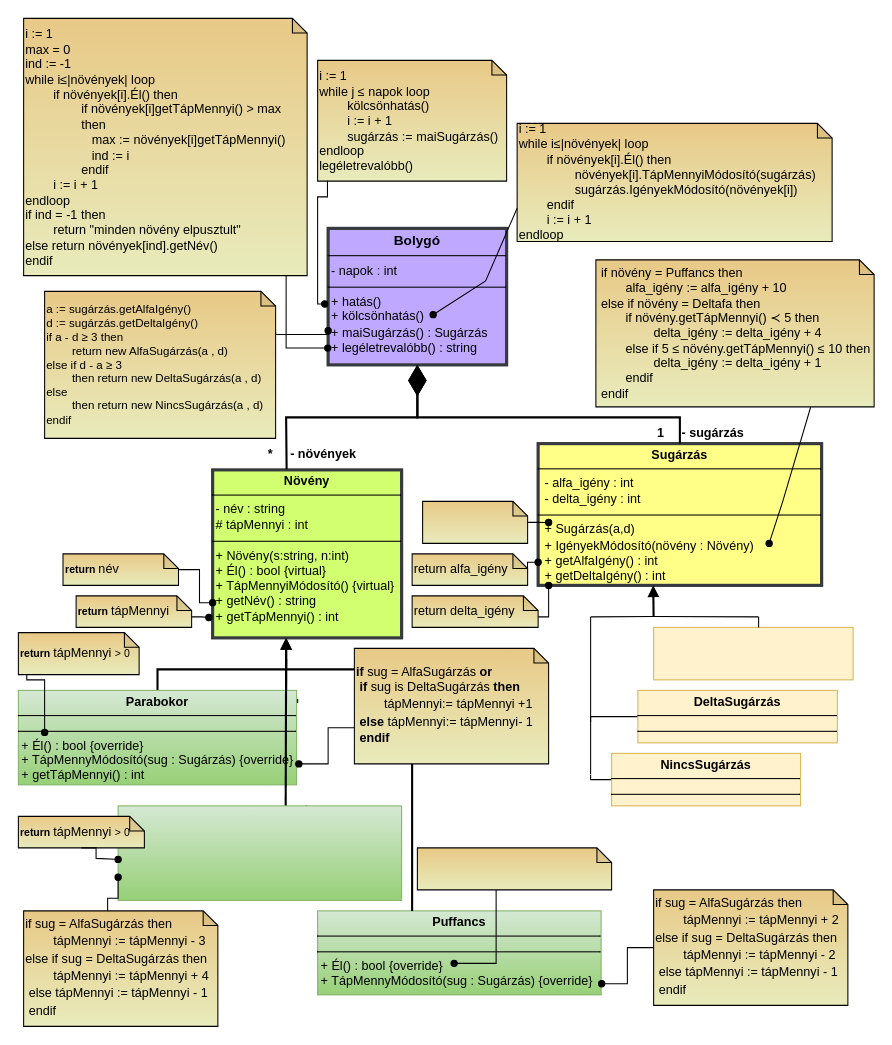
Image size: 892x1045. Some labels were removed from this diagram. The box of each missing label's shape, as (x1, y1, x2, y2) in pixels:
alfa_igény := a delta_igény := d: (422, 500, 528, 543)
AlfaSugárzás: (653, 626, 853, 680)
Deltafa + Él() : bool {override} + TápMennyMódosító(sug : Sugárzás) {override}: (117, 805, 402, 900)
return ( tápMennyi < 10 and tápMennyi > 0 ): (416, 847, 612, 890)
